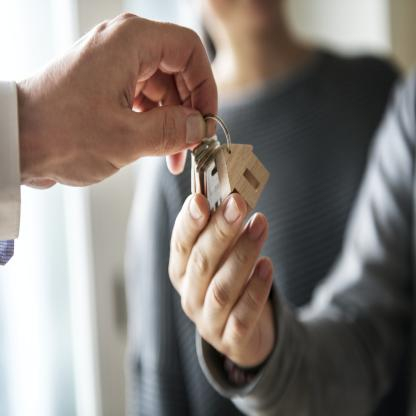keys: (189, 143, 241, 216)
